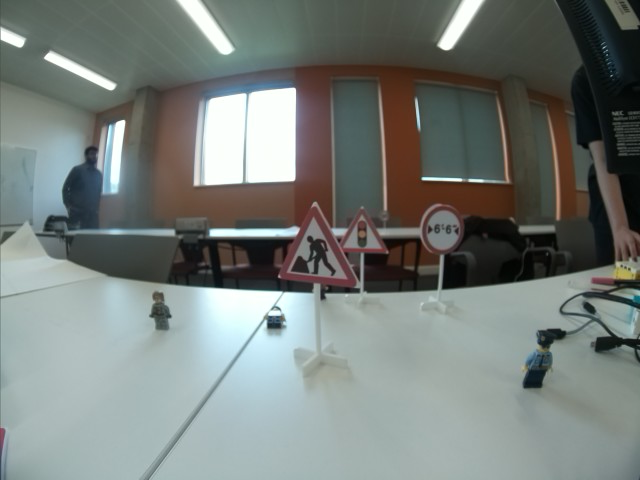6ft6: (421, 204, 464, 256)
Lego Man: (523, 330, 552, 392), (149, 290, 173, 332), (263, 305, 287, 330)
Roadworks: (276, 200, 354, 287)
Traffic lights: (337, 208, 388, 255)
